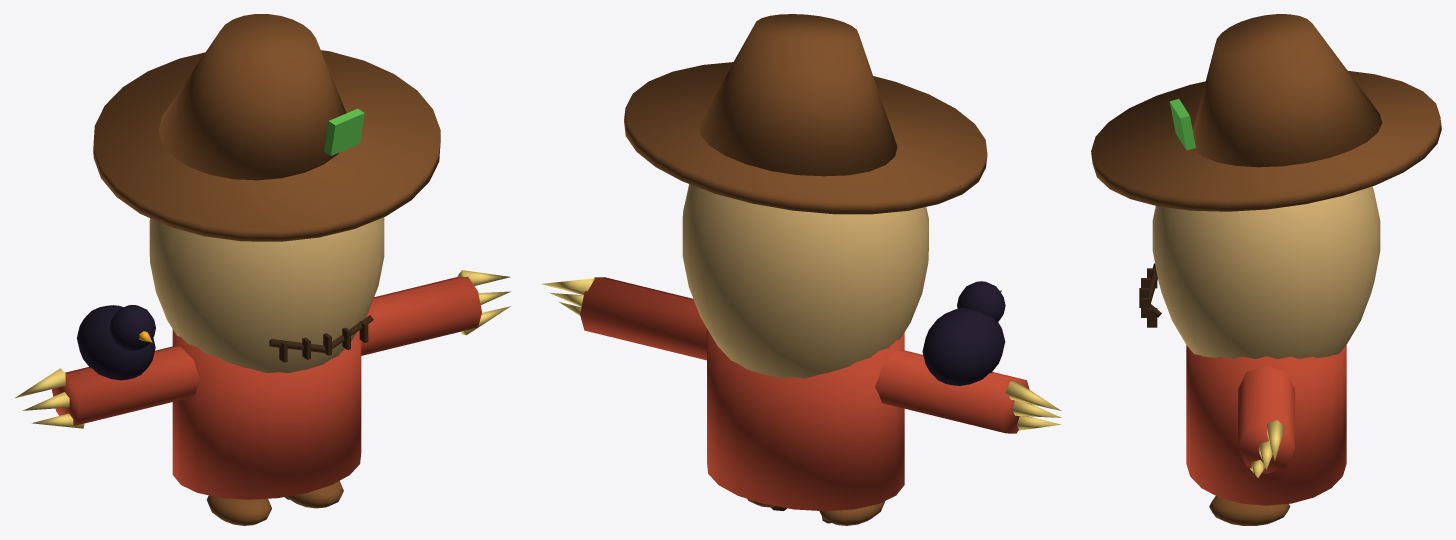
File: H11_ScarecrowSam.fbx
3 renders of one model, left to right at view 1: azimuth 30°, elevation 25°; view 2: azimuth 150°, elevation 25°; view 3: azimuth 270°, elevation 25°, orthographic. The views are drawn at different scales.
Visible parts, largest first — view 1: H11_ScarecrowSam__Hat, H11_ScarecrowSam__Shirt, H11_ScarecrowSam__Sack, H11_ScarecrowSam__Crow, H11_ScarecrowSam__Straw, H11_ScarecrowSam__Stitch, H11_ScarecrowSam__Patch; view 2: H11_ScarecrowSam__Hat, H11_ScarecrowSam__Shirt, H11_ScarecrowSam__Sack, H11_ScarecrowSam__Crow, H11_ScarecrowSam__Straw; view 3: H11_ScarecrowSam__Hat, H11_ScarecrowSam__Sack, H11_ScarecrowSam__Shirt, H11_ScarecrowSam__Straw, H11_ScarecrowSam__Stitch, H11_ScarecrowSam__Patch.
Boxes of the visible parts, bbox=[...] form: H11_ScarecrowSam__Hat: bbox=[93, 14, 440, 525]; H11_ScarecrowSam__Shirt: bbox=[52, 276, 481, 499]; H11_ScarecrowSam__Sack: bbox=[149, 217, 384, 373]; H11_ScarecrowSam__Crow: bbox=[77, 305, 155, 380]; H11_ScarecrowSam__Straw: bbox=[15, 270, 510, 428]; H11_ScarecrowSam__Stitch: bbox=[269, 315, 373, 499]; H11_ScarecrowSam__Patch: bbox=[324, 108, 364, 155]; H11_ScarecrowSam__Hat: bbox=[624, 14, 987, 525]; H11_ScarecrowSam__Shirt: bbox=[580, 277, 1029, 511]; H11_ScarecrowSam__Sack: bbox=[682, 184, 928, 378]; H11_ScarecrowSam__Crow: bbox=[922, 281, 1005, 385]; H11_ScarecrowSam__Straw: bbox=[541, 278, 1061, 430]; H11_ScarecrowSam__Hat: bbox=[1091, 14, 1441, 525]; H11_ScarecrowSam__Sack: bbox=[1152, 186, 1380, 358]; H11_ScarecrowSam__Shirt: bbox=[1186, 345, 1346, 505]; H11_ScarecrowSam__Straw: bbox=[1250, 420, 1284, 477]; H11_ScarecrowSam__Stitch: bbox=[1139, 263, 1161, 327]; H11_ScarecrowSam__Patch: bbox=[1169, 99, 1195, 150].
Size of the model in its own units: 3.46 by 3.13 by 2.1.
